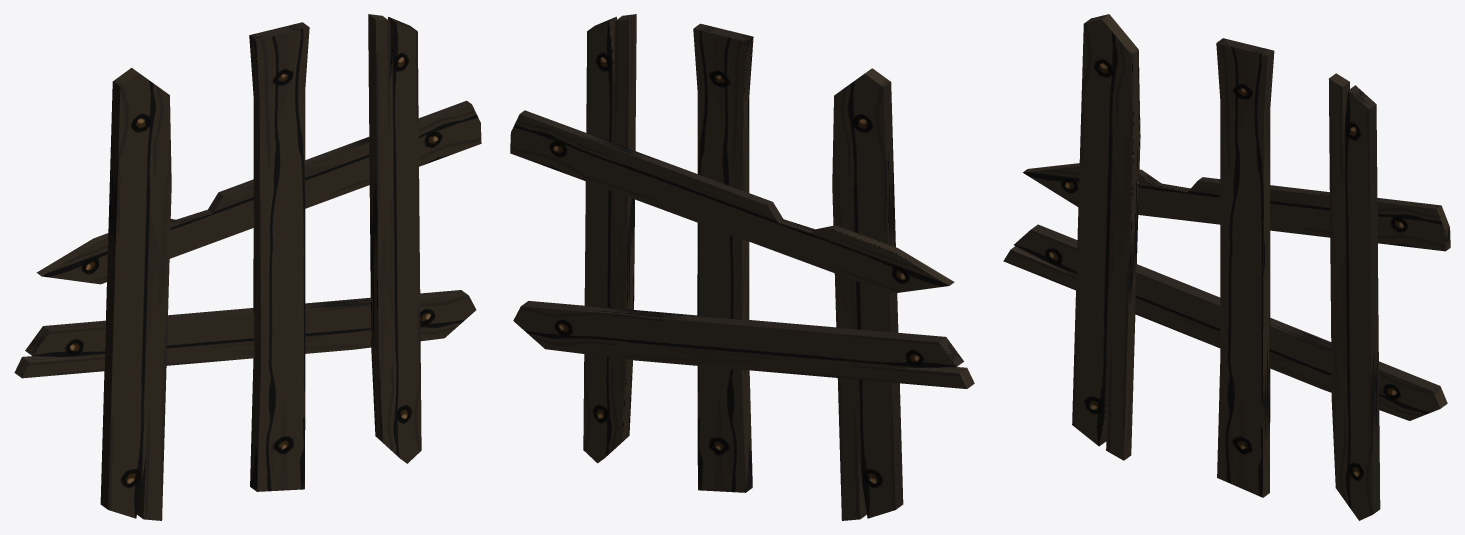
File: HangRaoC.fbx
The picture shows the model from 3 angles, left to right: view 1: azimuth 30°, elevation 25°; view 2: azimuth 150°, elevation 25°; view 3: azimuth 330°, elevation 25°; orthographic projection. The views are drawn at different scales.
Visible parts, largest first — view 1: HangRaoC; view 2: HangRaoC; view 3: HangRaoC.
Part boxes in pixels (x1=…): HangRaoC: x1=14, y1=14, x2=481, y2=520; HangRaoC: x1=510, y1=14, x2=974, y2=520; HangRaoC: x1=1003, y1=14, x2=1450, y2=520.
Bounding box in the file's own units: 1.48 × 0.085 × 1.41.
Materials: 1 (1 with a texture image).
